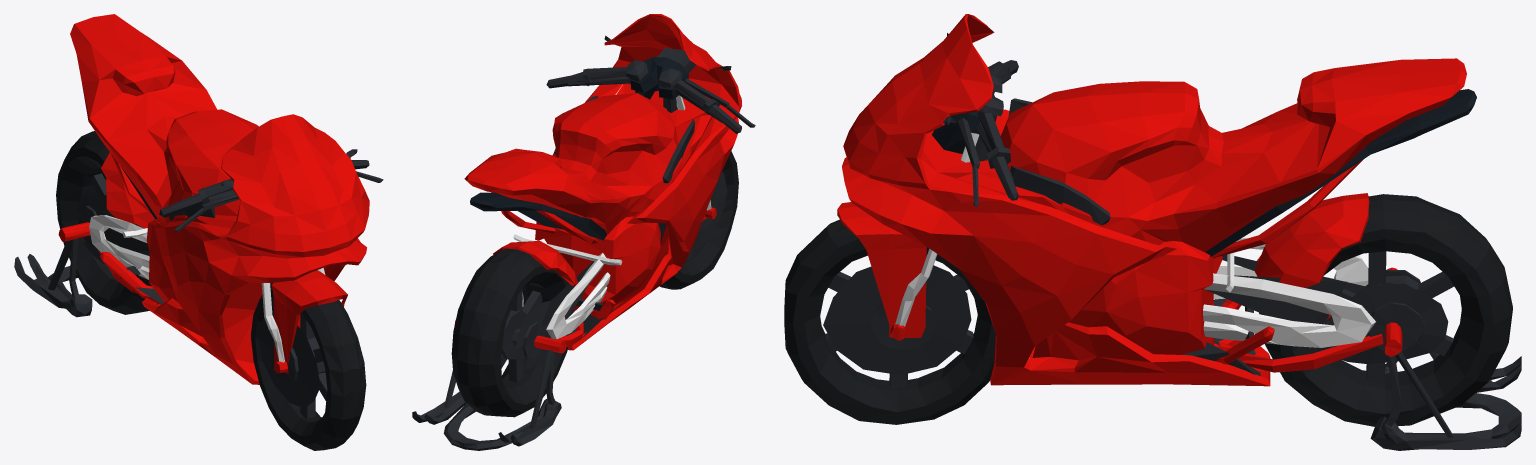
The model's file is moto.glb.
3 renders of one model, left to right at view 1: azimuth 30°, elevation 25°; view 2: azimuth 150°, elevation 25°; view 3: azimuth 270°, elevation 25°, orthographic. The views are drawn at different scales.
Parts seen in each view (by area): view 1: primary, wheel_1, dark, wheel_0, secondary, stand; view 2: primary, wheel_0, dark, stand, glass, wheel_1, secondary; view 3: primary, dark, wheel_0, wheel_1, secondary, stand, glass.
Part boxes in pixels (x1,y1,x2,y2): primary: (58,14,369,384); wheel_1: (250,283,366,450); dark: (77,149,383,418); wheel_0: (56,131,151,314); secondary: (89,215,325,362); stand: (14,238,92,317); primary: (454,14,742,353); wheel_0: (451,248,573,417); dark: (501,35,755,382); stand: (412,349,561,450); glass: (470,57,688,240); wheel_1: (658,151,738,289); secondary: (513,95,711,339); primary: (837,14,1466,386); dark: (823,33,1454,388); wheel_0: (1259,194,1512,426); wheel_1: (784,219,995,424); secondary: (895,132,1375,347); stand: (1370,351,1521,450); glass: (932,89,1476,256).
Size of the model in its own units: 0.9432 by 1.35 by 2.2.
